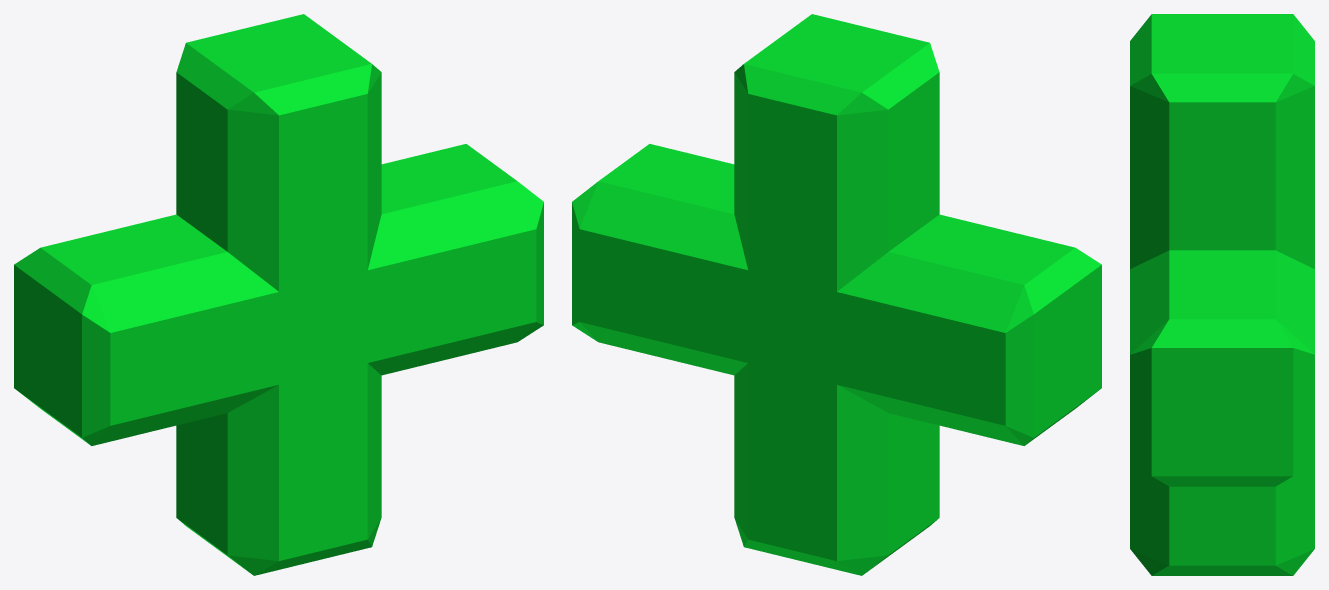
The model's file is lifeStealPowerUp.fbx.
The picture shows the model from 3 angles, left to right: view 1: azimuth 30°, elevation 25°; view 2: azimuth 150°, elevation 25°; view 3: azimuth 270°, elevation 25°; orthographic projection. The views are drawn at different scales.
Visible parts, largest first — view 1: Cube.009; view 2: Cube.009; view 3: Cube.009.
Boxes of the visible parts, left/top/right/bottom form: Cube.009: left=14, top=14, right=543, bottom=575; Cube.009: left=572, top=14, right=1101, bottom=575; Cube.009: left=1130, top=14, right=1314, bottom=575.
Bounding box in the file's own units: 329 × 329 × 110.
